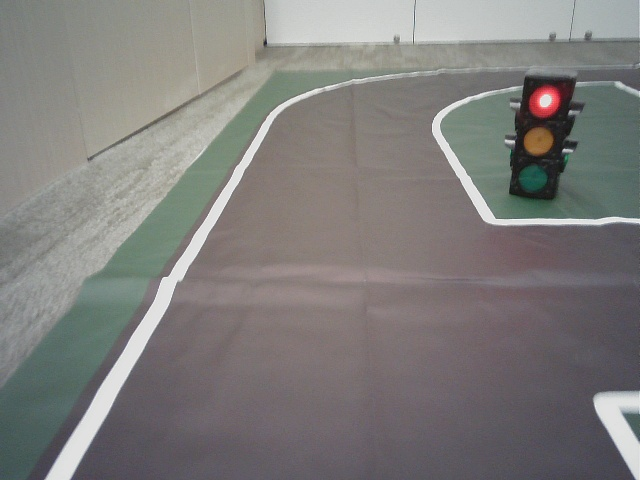red: (516, 83, 559, 192)
